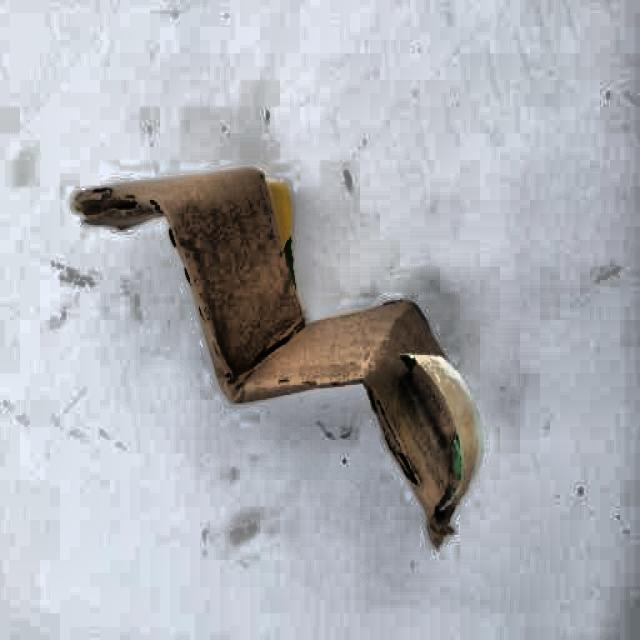cardboard: (74, 163, 489, 548)
